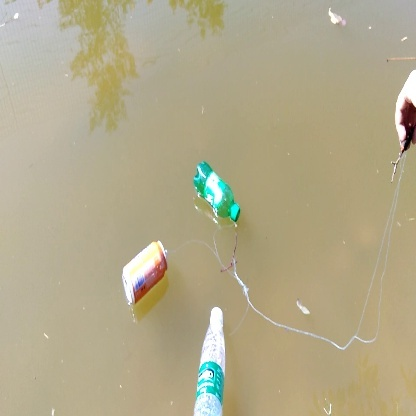bottle: (188, 304, 229, 416), (115, 241, 174, 312), (192, 160, 243, 223)
